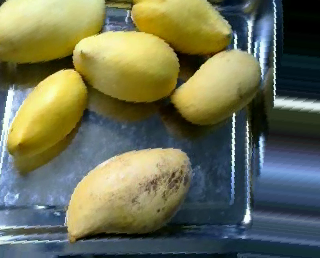Mango: (61, 143, 199, 250), (65, 29, 186, 106), (6, 68, 94, 164), (172, 44, 265, 126), (0, 0, 104, 64), (126, 0, 239, 54)
